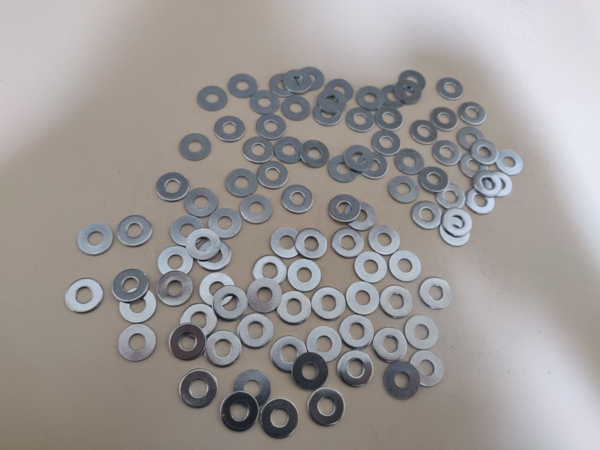circle: (115, 322, 160, 364), (177, 368, 219, 411), (219, 391, 260, 432), (260, 398, 300, 439), (233, 369, 273, 409), (168, 323, 208, 362), (307, 388, 346, 427), (118, 286, 158, 324), (181, 302, 219, 341), (292, 353, 330, 391), (205, 330, 243, 368), (383, 362, 420, 401), (338, 350, 374, 390), (372, 328, 410, 365), (65, 278, 104, 314), (238, 313, 276, 349), (271, 337, 310, 372), (111, 269, 149, 304), (307, 327, 343, 363), (247, 278, 282, 315), (116, 214, 154, 248), (340, 315, 374, 353), (410, 350, 444, 388), (75, 223, 114, 256), (312, 286, 348, 321), (196, 238, 232, 273), (212, 286, 248, 321), (278, 292, 315, 326), (405, 316, 440, 351), (380, 285, 415, 320), (200, 272, 235, 307), (241, 133, 276, 168), (158, 245, 194, 279), (355, 250, 387, 288), (346, 282, 381, 316), (171, 214, 205, 249), (186, 228, 221, 262), (253, 254, 287, 289), (208, 208, 244, 241), (158, 272, 192, 306), (367, 223, 400, 258), (294, 228, 328, 261), (331, 225, 364, 259), (288, 259, 323, 291), (389, 249, 422, 282), (270, 226, 302, 260), (420, 278, 453, 310), (185, 187, 219, 218), (177, 132, 212, 161), (212, 114, 247, 143), (255, 161, 289, 190), (343, 200, 375, 230), (157, 173, 190, 202), (281, 185, 315, 213), (196, 84, 230, 112), (328, 154, 359, 184), (412, 200, 443, 230), (466, 185, 496, 216), (226, 168, 258, 197), (441, 208, 473, 237), (357, 153, 391, 180), (327, 195, 362, 221), (300, 139, 330, 169), (439, 218, 469, 248), (241, 194, 273, 222), (343, 145, 375, 173), (387, 176, 420, 203), (312, 101, 345, 128), (250, 89, 281, 116), (436, 183, 467, 210), (227, 73, 259, 99), (280, 96, 312, 122), (484, 171, 513, 199), (257, 113, 287, 140), (274, 137, 304, 164), (473, 170, 503, 197), (457, 126, 488, 152), (283, 70, 314, 96), (459, 155, 492, 179), (496, 148, 524, 176), (395, 149, 424, 176), (346, 108, 376, 134), (316, 88, 346, 114), (325, 77, 353, 104), (410, 119, 439, 145), (356, 86, 385, 112), (372, 131, 402, 156), (429, 107, 459, 132), (269, 73, 299, 98), (432, 140, 460, 166), (380, 84, 408, 110), (297, 65, 325, 91), (420, 168, 449, 192), (395, 80, 424, 104), (376, 107, 403, 132), (472, 140, 499, 165), (436, 77, 464, 101), (398, 70, 426, 94), (459, 102, 486, 125)
